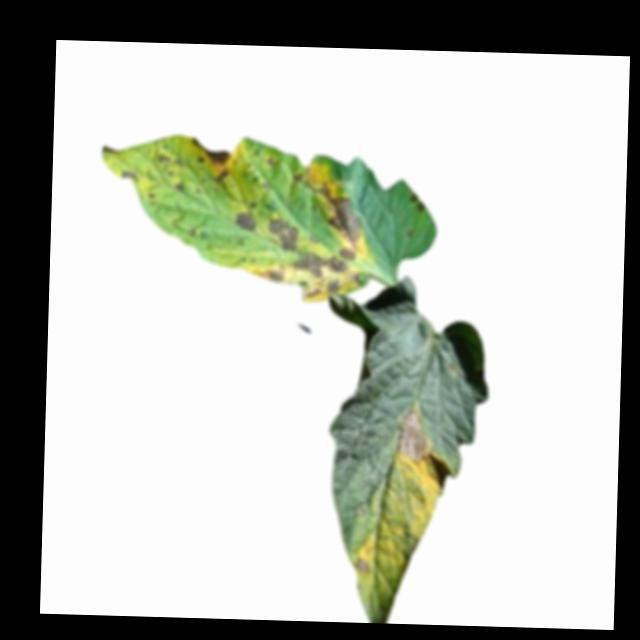Early_blight: (255, 243, 361, 305), (315, 181, 366, 245), (190, 137, 234, 183), (393, 408, 431, 459), (267, 215, 304, 247), (235, 208, 256, 232), (157, 149, 184, 165), (353, 558, 377, 574), (410, 191, 426, 211), (118, 168, 138, 181), (174, 177, 186, 192), (294, 170, 304, 182)
